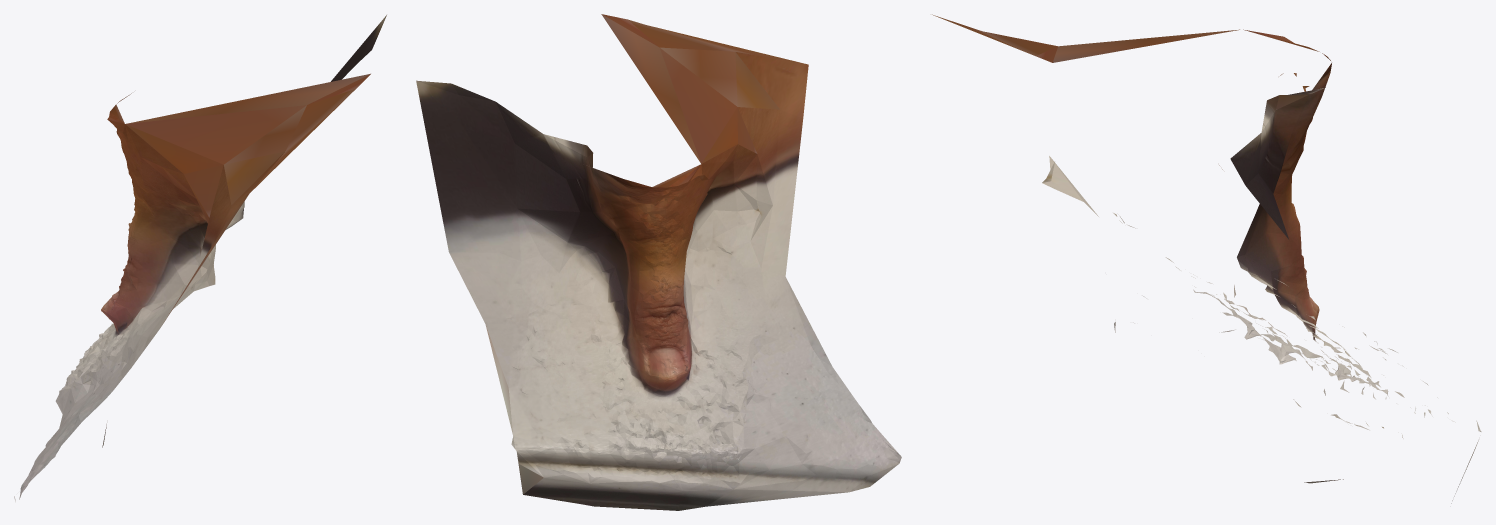
The model's file is modelo.glb.
3 renders of one model, left to right at view 1: azimuth 30°, elevation 25°; view 2: azimuth 150°, elevation 25°; view 3: azimuth 270°, elevation 25°, orthographic. The views are drawn at different scales.
Bounding box in the file's own units: 70.04 × 61.46 × 57.73.
Materials: 1 (1 with a texture image).
